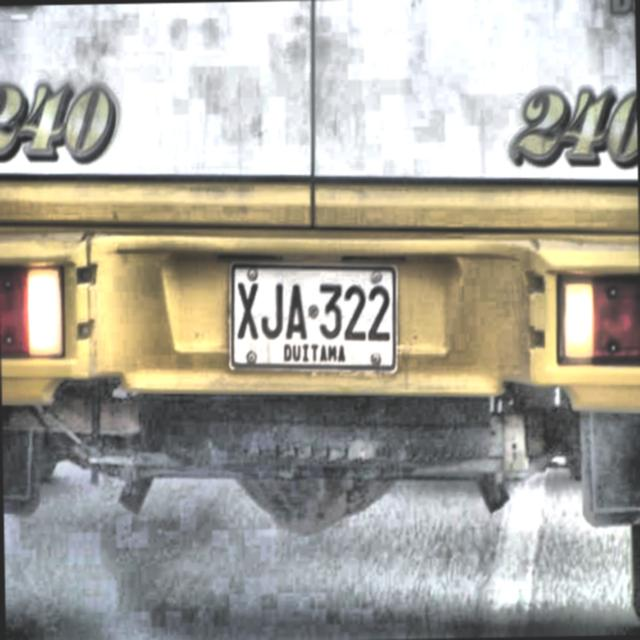plate: (230, 263, 395, 369)
